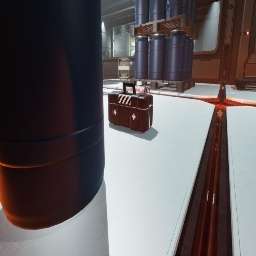0: (147, 82, 149, 84)
FirstAidBox ,: (108, 82, 153, 132)
NitrogenTank ,: (126, 86, 150, 94)
